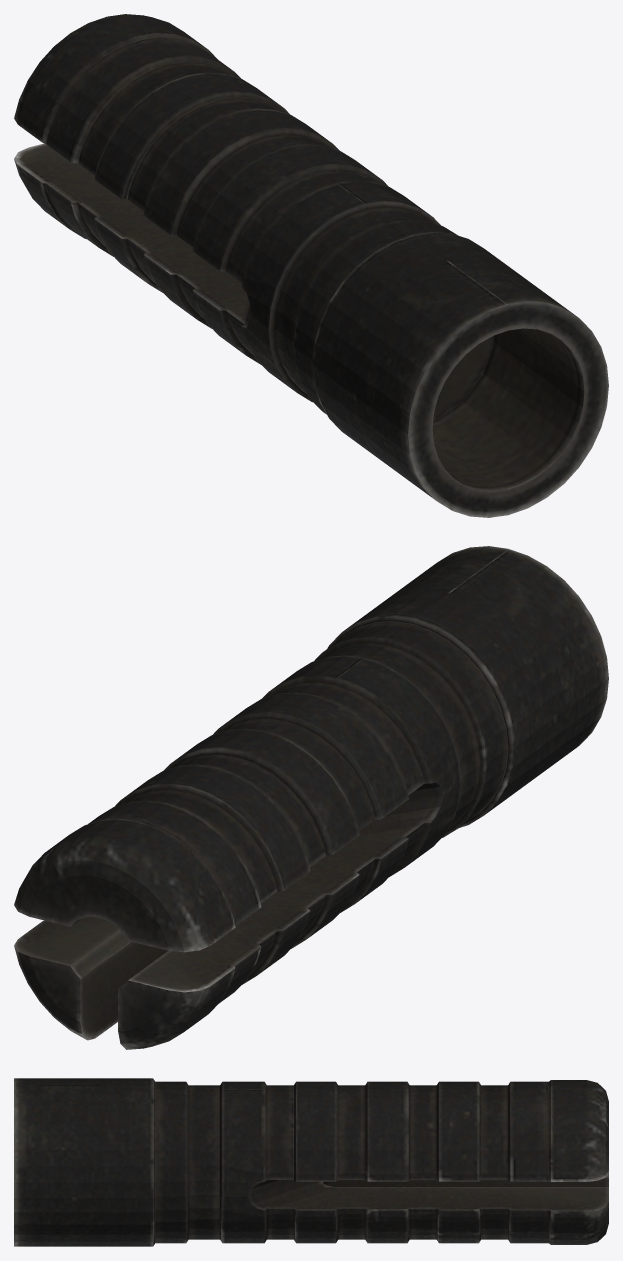
The picture shows the model from 3 angles, top to bottom: view 1: azimuth 30°, elevation 25°; view 2: azimuth 150°, elevation 25°; view 3: azimuth 270°, elevation 25°; orthographic projection. The views are drawn at different scales.
Visible parts, largest first — view 1: TW_5beec3420db834001b095429_PZ_Import; view 2: TW_5beec3420db834001b095429_PZ_Import; view 3: TW_5beec3420db834001b095429_PZ_Import.
Boxes of the visible parts, <box> form: TW_5beec3420db834001b095429_PZ_Import: <box>14,14,608,517</box>; TW_5beec3420db834001b095429_PZ_Import: <box>14,546,608,1049</box>; TW_5beec3420db834001b095429_PZ_Import: <box>14,1078,608,1246</box>.
Size of the model in its own units: 0.0139 by 0.0489 by 0.0139.
Materials: 1 (1 with a texture image).
